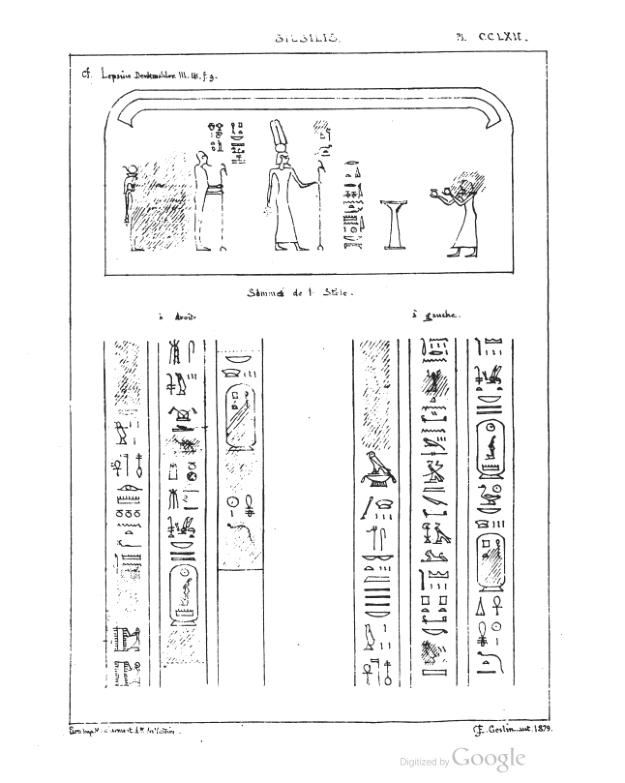circle: (469, 417, 512, 481), (221, 383, 257, 454), (471, 530, 511, 593), (166, 563, 201, 628)
